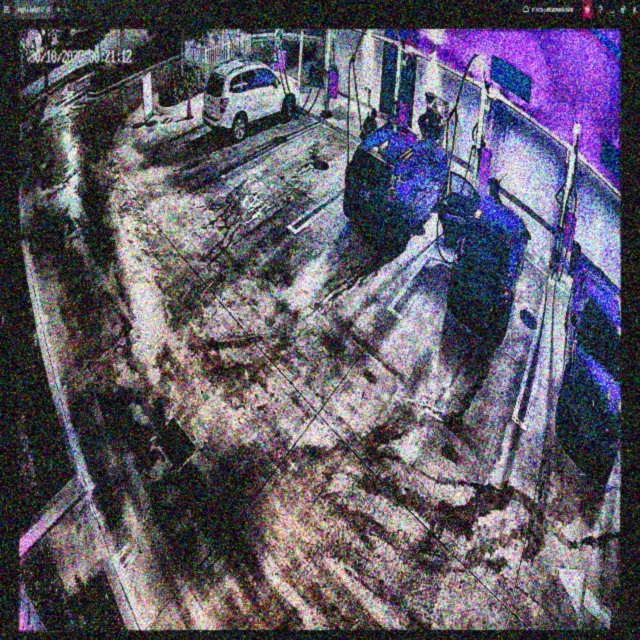Car: (447, 173, 529, 341), (344, 120, 449, 246), (202, 60, 299, 141)
